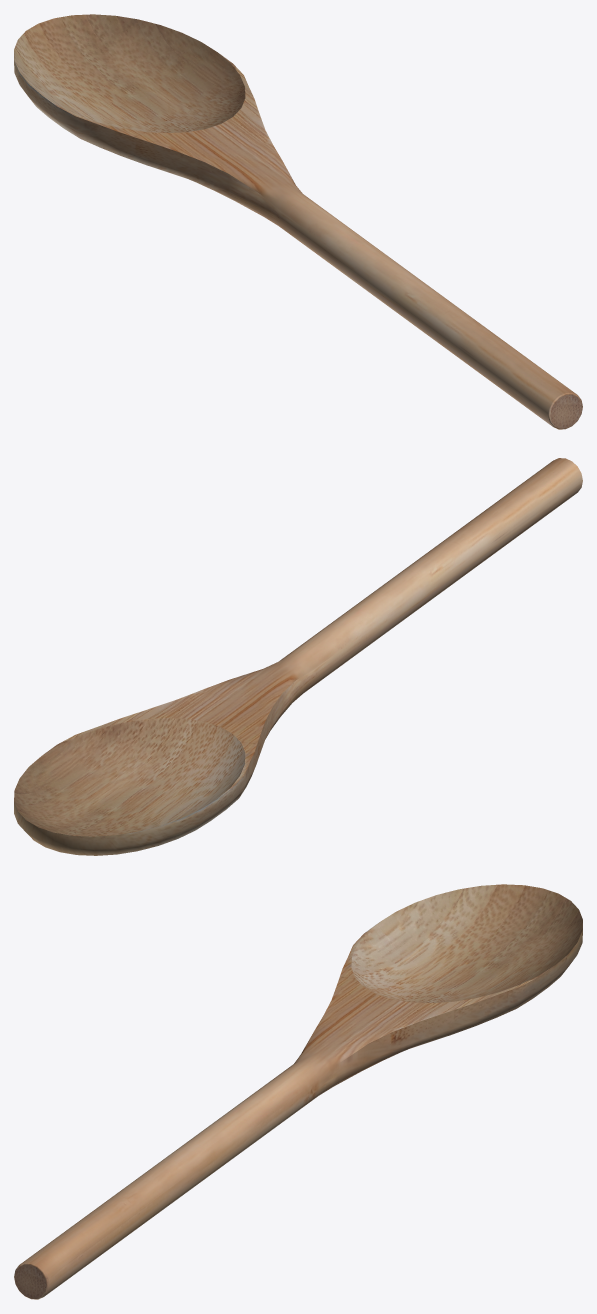
The model's file is Spoon.fbx.
3 views of the same model, one above another, from view 1: azimuth 30°, elevation 25°; view 2: azimuth 150°, elevation 25°; view 3: azimuth 330°, elevation 25° (orthographic).
Visible parts, largest first — view 1: cooking spoon; view 2: cooking spoon; view 3: cooking spoon.
Boxes of the visible parts, x1,y1,x2,y2 form: cooking spoon: (14, 14, 582, 429); cooking spoon: (14, 458, 582, 855); cooking spoon: (14, 884, 582, 1299).
Size of the model in its own units: 5.95 by 1.19 by 30.
